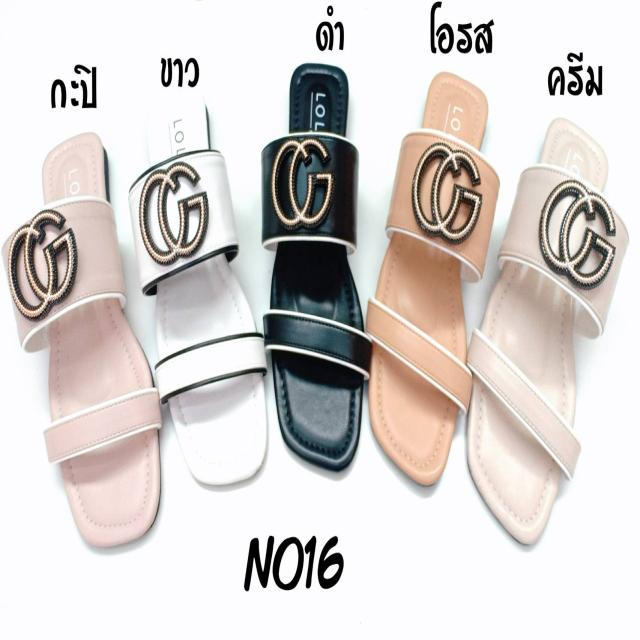black: (254, 59, 372, 462)
cream: (463, 87, 637, 547)
kapi: (15, 107, 169, 552)
orot: (370, 56, 501, 483)
white: (131, 87, 275, 493)
